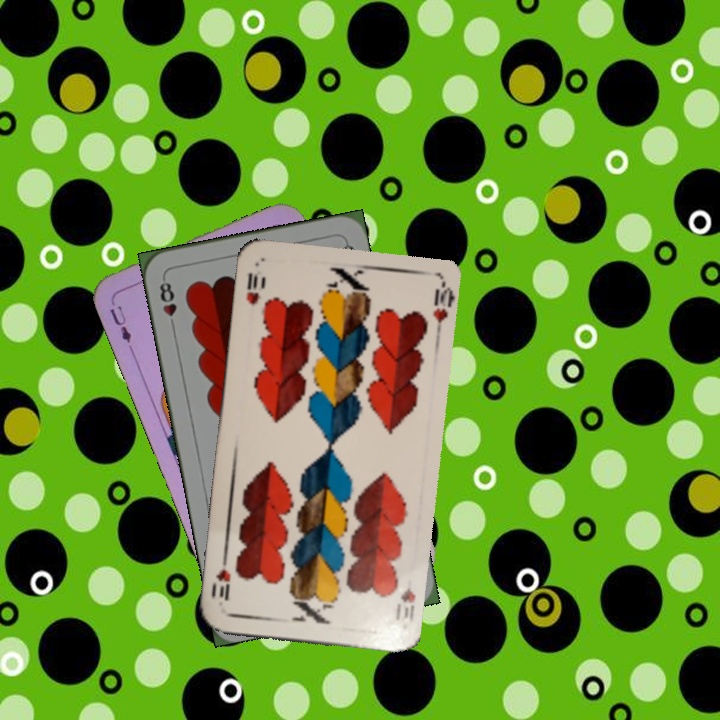EU: (106, 296, 135, 352)
H10: (392, 583, 419, 625), (241, 267, 267, 308)
H8: (155, 274, 180, 332)
